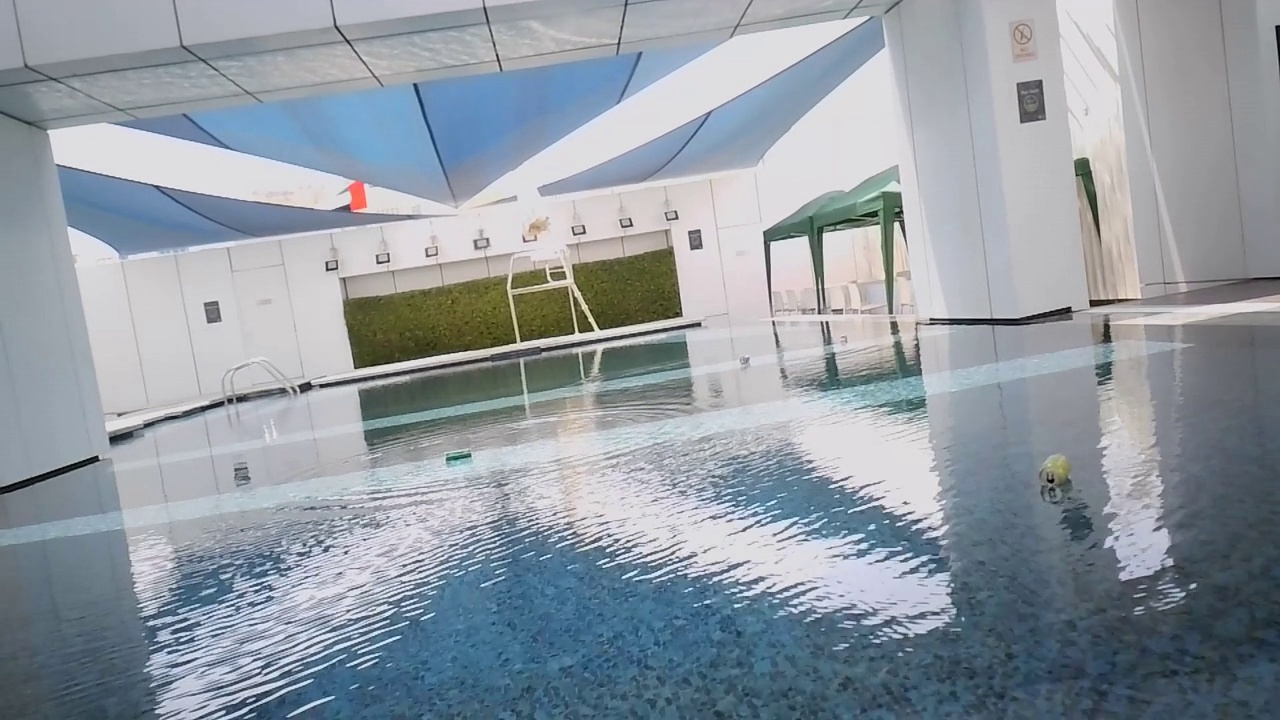debris: (1028, 451, 1068, 493), (440, 445, 473, 468), (738, 352, 750, 365), (837, 331, 848, 344)
